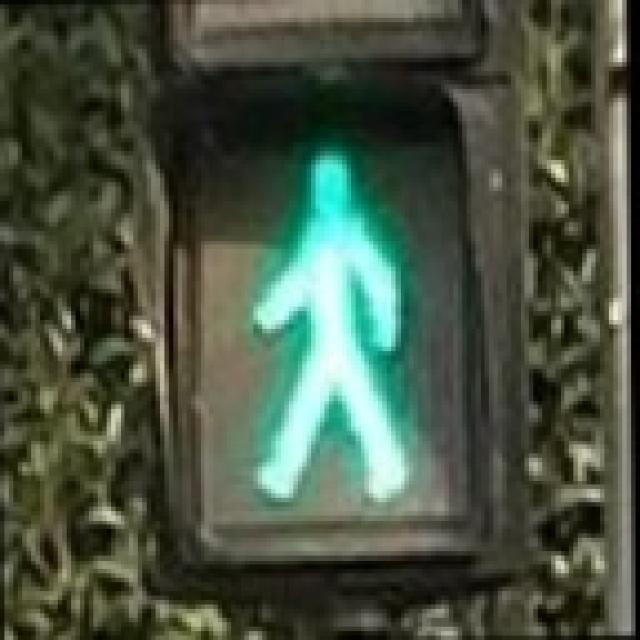geen-crossing: (178, 102, 449, 534)
